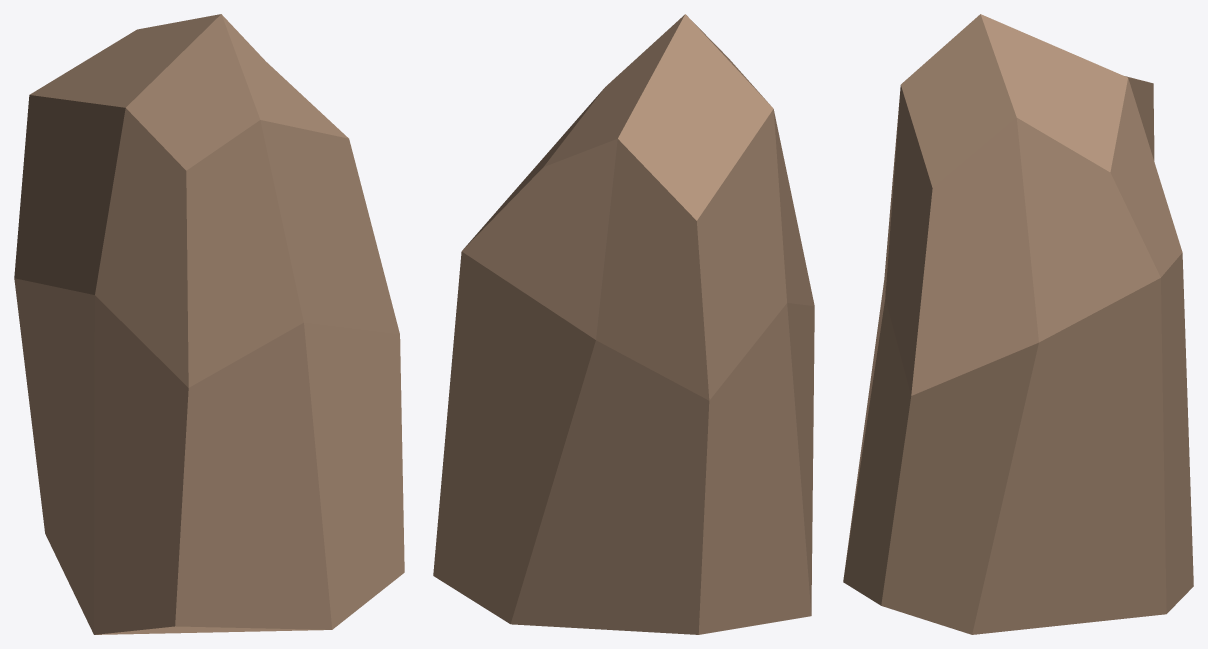
File: a_z2_rock_l.fbx
3 renders of one model, left to right at view 1: azimuth 30°, elevation 25°; view 2: azimuth 150°, elevation 25°; view 3: azimuth 270°, elevation 25°, orthographic. The views are drawn at different scales.
Parts seen in each view (by area): view 1: a_z2_rock_l; view 2: a_z2_rock_l; view 3: a_z2_rock_l.
Part boxes in pixels (<box>): a_z2_rock_l: <box>14,14,404,634</box>; a_z2_rock_l: <box>433,14,814,634</box>; a_z2_rock_l: <box>843,14,1193,634</box>.
Size of the model in its own units: 179 by 346 by 195.
